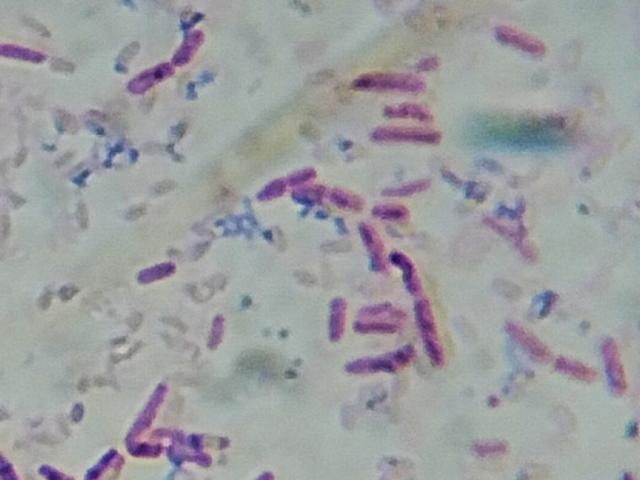E. coli: (413, 297, 446, 370), (345, 345, 411, 379), (121, 382, 169, 427), (353, 62, 432, 89), (592, 332, 626, 394), (492, 23, 550, 58), (261, 159, 310, 199), (373, 122, 443, 149), (0, 37, 49, 71), (392, 246, 426, 295), (355, 225, 385, 280), (128, 59, 174, 94), (316, 290, 346, 341), (511, 323, 544, 368), (136, 257, 184, 285), (162, 425, 220, 446), (81, 446, 116, 480), (382, 96, 438, 117), (128, 442, 186, 462), (172, 27, 204, 63), (301, 186, 351, 208), (372, 193, 413, 219), (356, 312, 399, 336), (549, 356, 597, 377), (205, 309, 227, 353), (38, 457, 70, 480)
